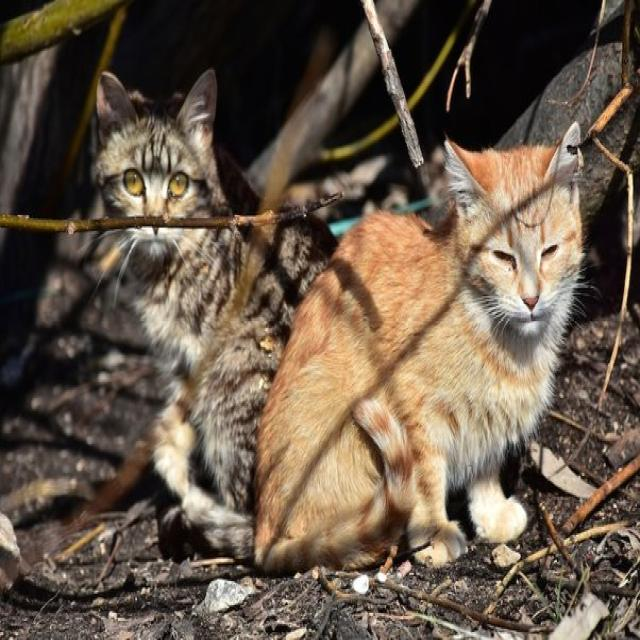cat: (255, 122, 582, 573), (122, 217, 334, 553), (95, 73, 256, 216)
